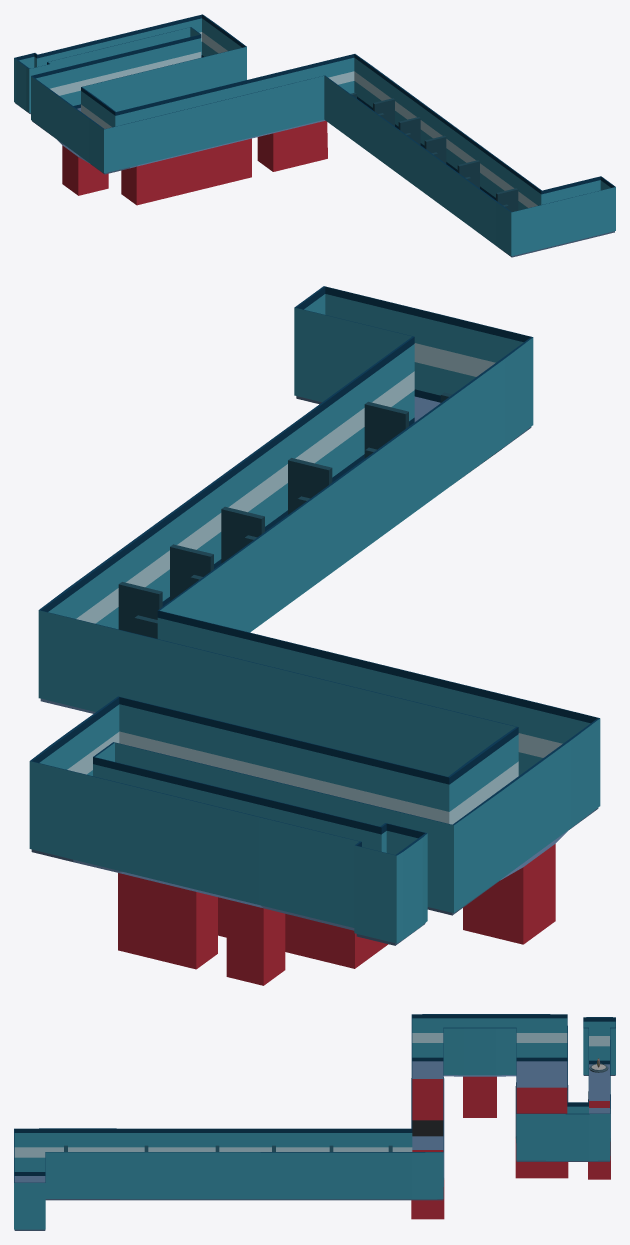
3 renders of one model, top to bottom at view 1: azimuth 30°, elevation 25°; view 2: azimuth 150°, elevation 25°; view 3: azimuth 270°, elevation 25°, orthographic. The views are drawn at different scales.
Visible parts, largest first — view 1: walll1, DEAD ZONE, dwall, poll1; view 2: walll1, DEAD ZONE, dwall, poll1; view 3: walll1, DEAD ZONE, poll1.
Part boxes in pixels (box(x1,y1,x2,y2)): walll1: box(14, 14, 615, 256); DEAD ZONE: box(62, 120, 327, 205); dwall: box(350, 92, 518, 211); poll1: box(15, 103, 614, 257); walll1: box(29, 286, 600, 943); DEAD ZONE: box(118, 844, 555, 985); dwall: box(118, 392, 452, 638); poll1: box(31, 396, 598, 945); walll1: box(14, 1014, 615, 1229); DEAD ZONE: box(411, 1076, 610, 1219); poll1: box(14, 1061, 615, 1230).
Bounding box in the file's own units: 3835 × 938 × 5751.
1 material, 1 textured.
